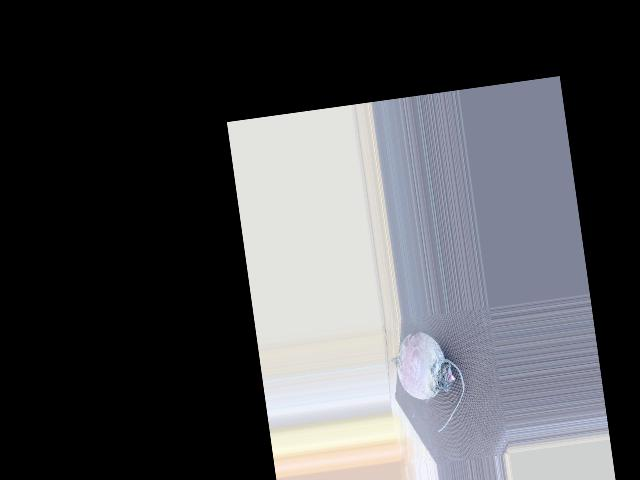beet: (381, 326, 470, 438)
